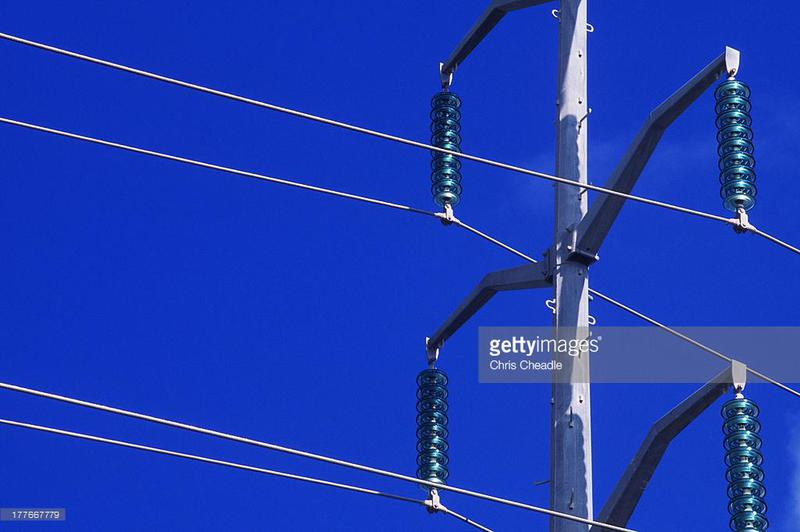isolator: (721, 397, 769, 532), (713, 79, 758, 213), (414, 369, 450, 492), (429, 91, 462, 208)
